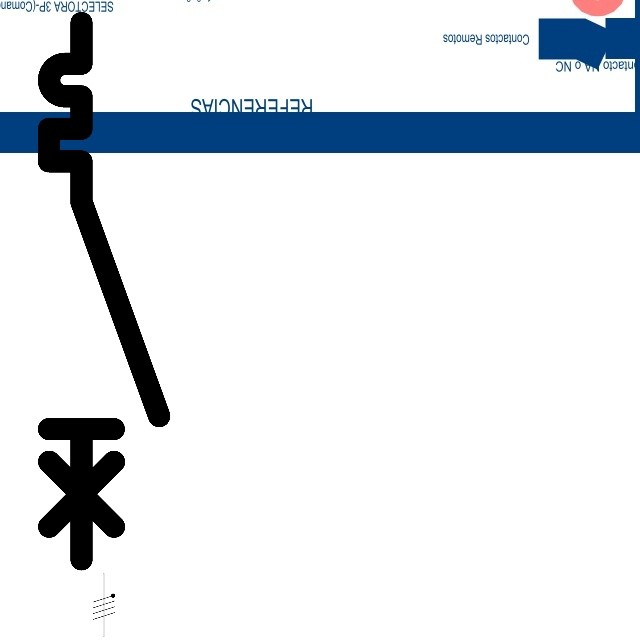interruptor_termomagnetico: (35, 9, 173, 573)
